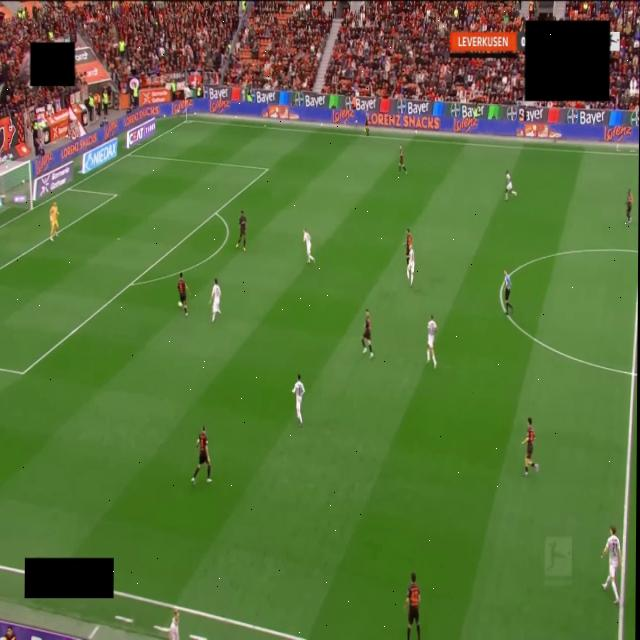ball: (178, 301, 182, 306)
player: (603, 527, 621, 604), (191, 427, 211, 484), (406, 572, 420, 639), (523, 419, 538, 476), (292, 373, 305, 426), (361, 309, 373, 358), (427, 315, 437, 367), (209, 278, 221, 321), (177, 273, 188, 316), (503, 269, 513, 315), (303, 228, 315, 261), (407, 245, 415, 285), (505, 172, 517, 198), (50, 204, 58, 240), (239, 212, 246, 250), (405, 229, 412, 257), (627, 192, 632, 221), (171, 613, 178, 632), (400, 147, 404, 168)
referee: (504, 270, 513, 314), (169, 609, 179, 639)
